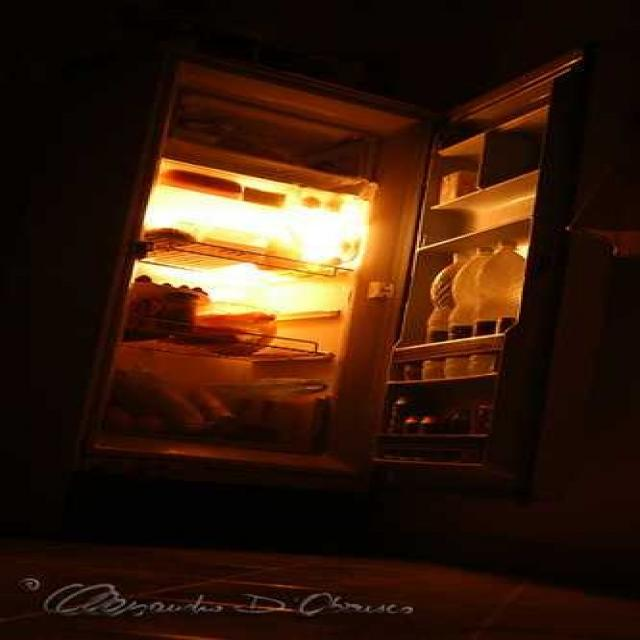refrigerator: (77, 50, 596, 477)
